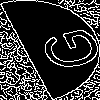G: (25, 25, 100, 77)
